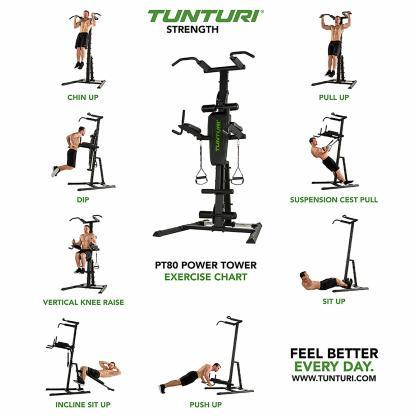chinning dipping: (49, 112, 116, 194), (59, 10, 108, 91), (61, 213, 108, 294), (311, 10, 357, 90)
